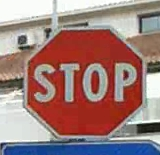stop: (21, 26, 147, 139)
